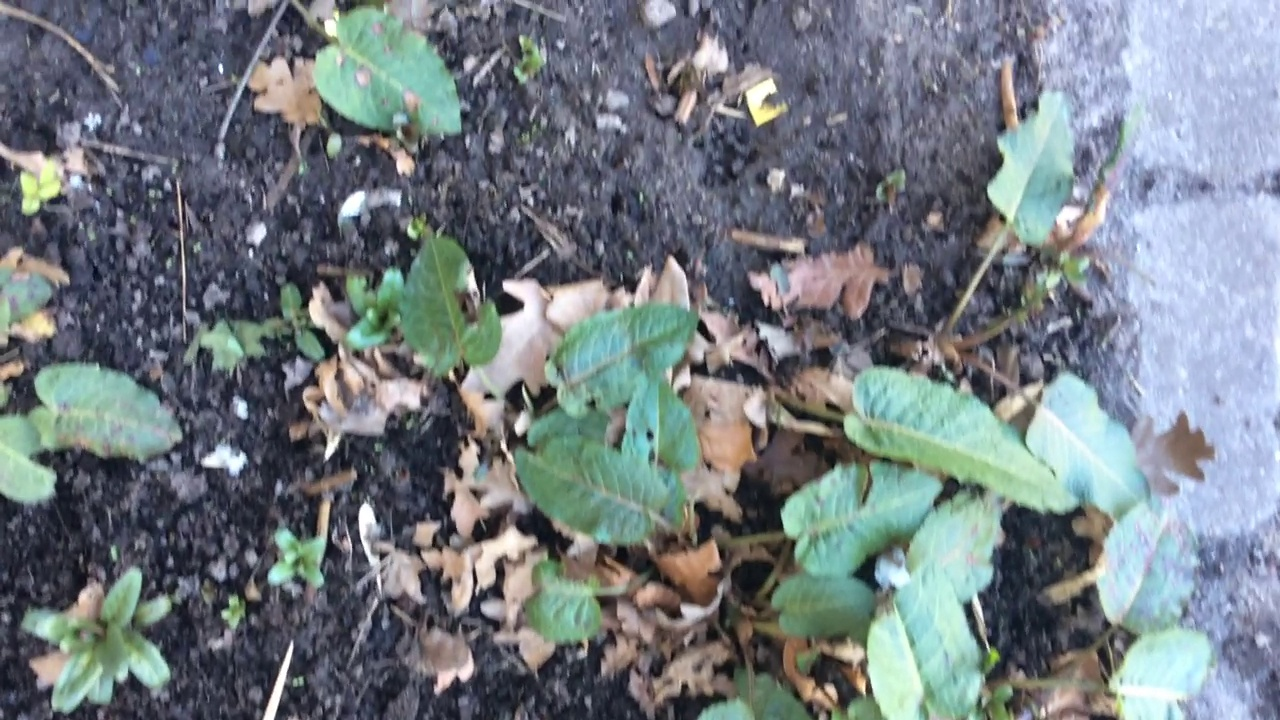rumex: (388, 236, 1223, 720), (1, 263, 196, 517), (258, 1, 487, 166)
